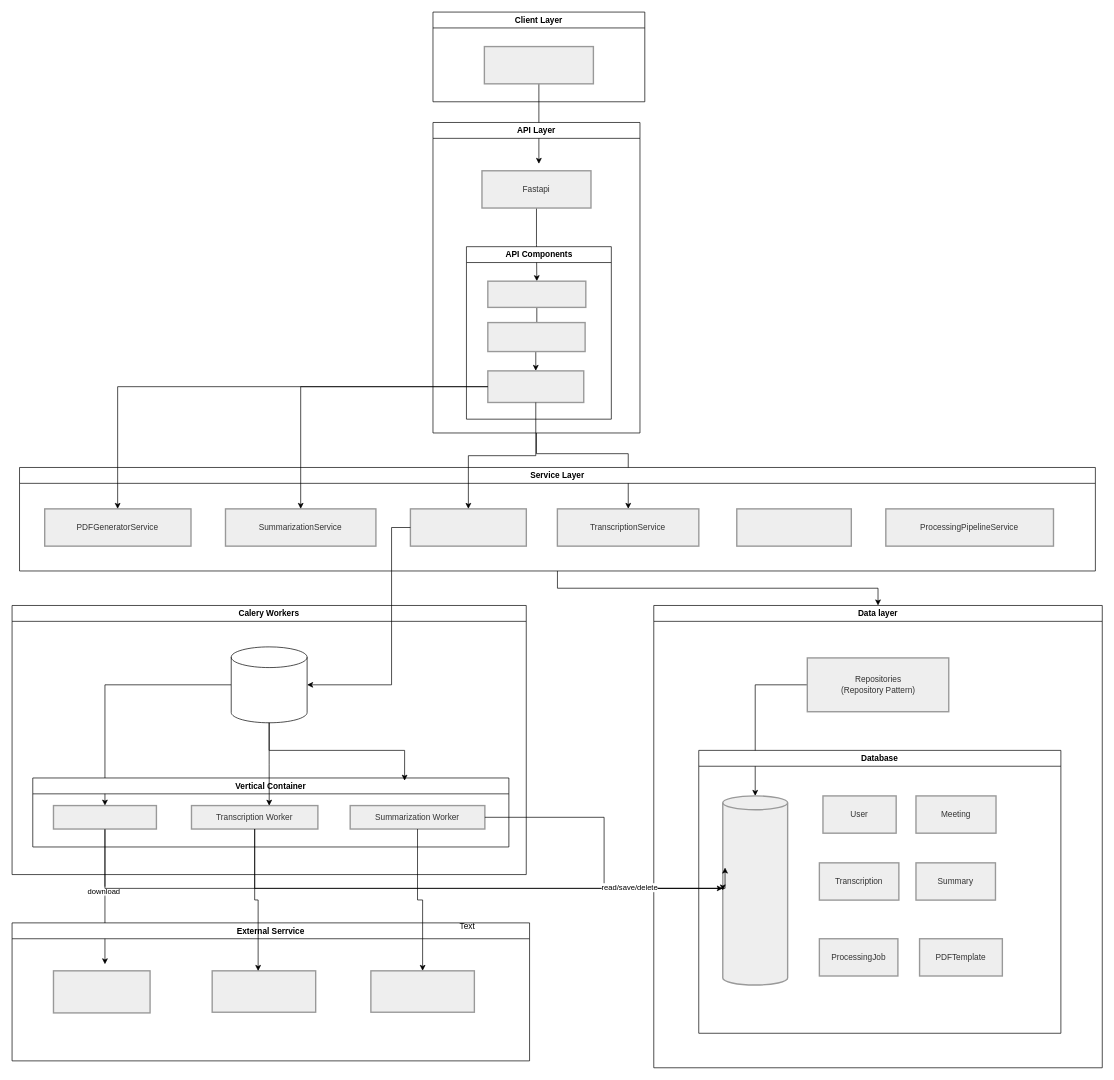
Some shapes in this 1114 by 1080 pixel diagram are drawn without their labels. The centre of each missing label's shape, as x and y in pixels:
apilogy: the point at 422,991
Auth Middleware: the point at 536,337
MeetingService: the point at 468,527
MinIO / S3 Object Storage: the point at 101,991
PDF Generation Worker: the point at 104,817
PostgreSQL: the point at 755,890
Pydantic Validation: the point at 535,386
Redis Broker and Backend: the point at 269,684
Routers (v1/endpoints): the point at 536,294
StorageService: the point at 794,527
whisper model transcirbe: the point at 263,991
📱 Mobile App: the point at 538,65
